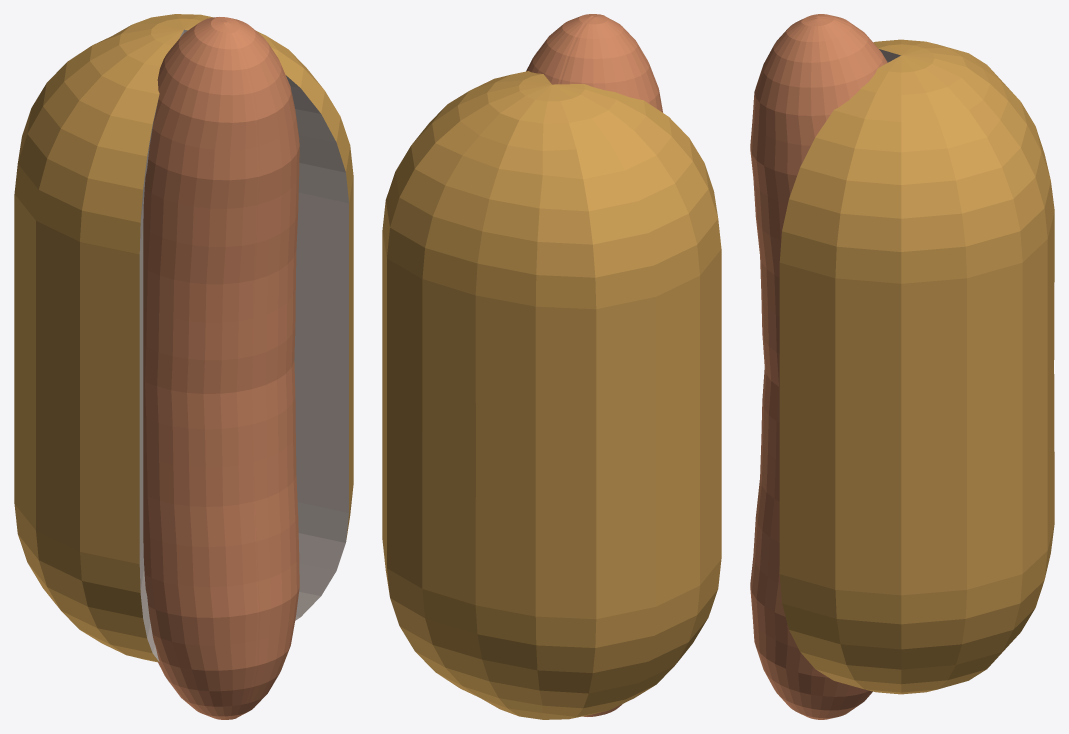
Rendered from hotdog.fbx.
3 views of the same model, side by side, from view 1: azimuth 30°, elevation 25°; view 2: azimuth 150°, elevation 25°; view 3: azimuth 270°, elevation 25° (orthographic).
Visible parts, largest first — view 1: Bun, HotDog; view 2: Bun, HotDog; view 3: Bun, HotDog.
Part boxes in pixels (x1,y1,x2,y2): Bun: (14, 14, 353, 662); HotDog: (143, 17, 299, 719); Bun: (382, 71, 721, 719); HotDog: (526, 14, 662, 716); Bun: (779, 39, 1054, 694); HotDog: (750, 14, 887, 719).
Bounding box in the file's own units: 200 × 449 × 177.
